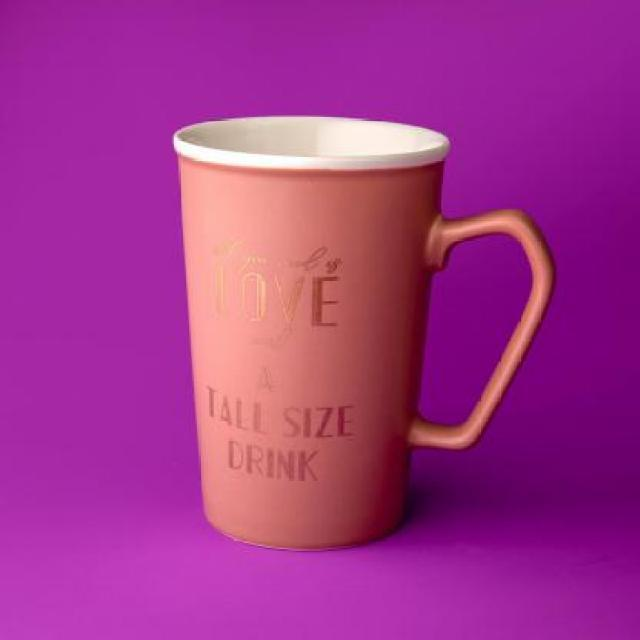taza: (170, 114, 558, 557)
